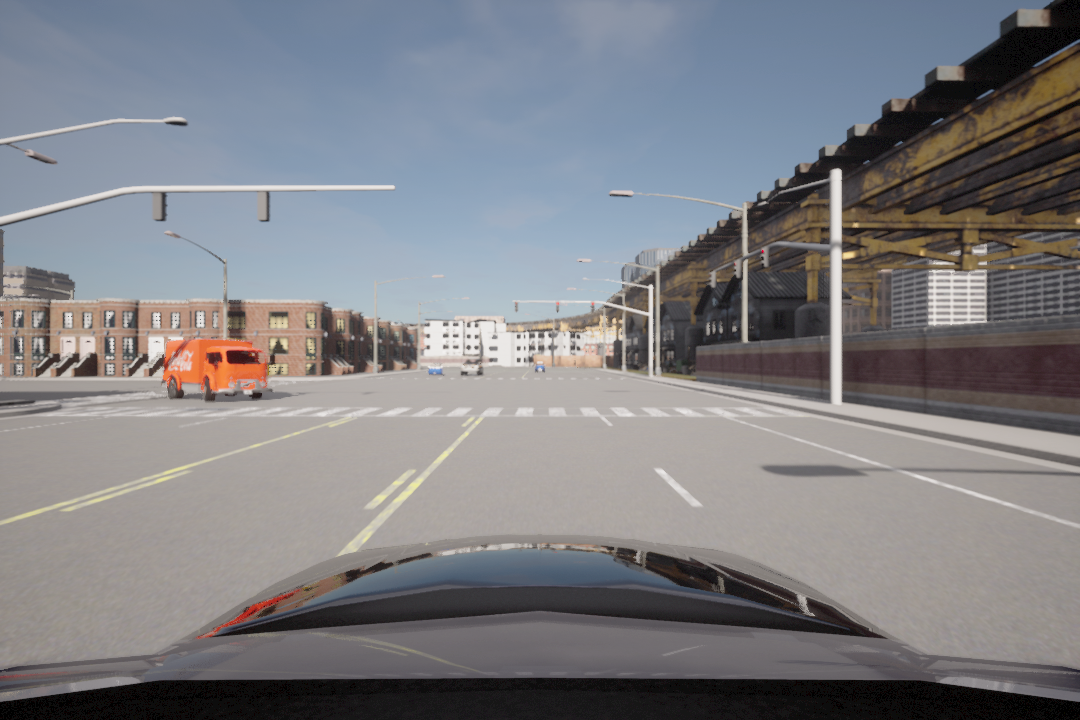walkside: (37, 403, 817, 421)
